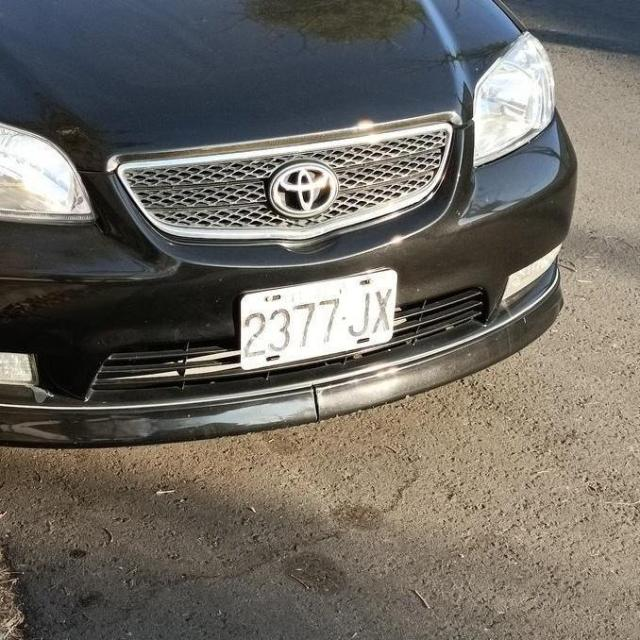W: (224, 260, 410, 378)
